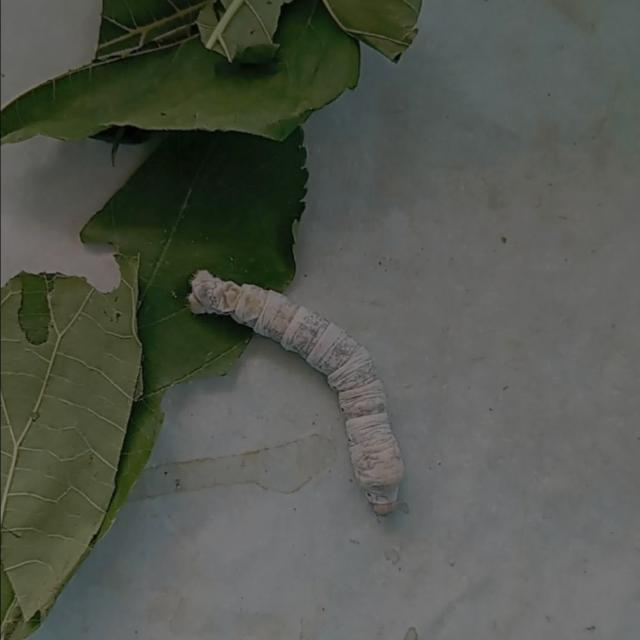Grasserie: (180, 264, 416, 524)
